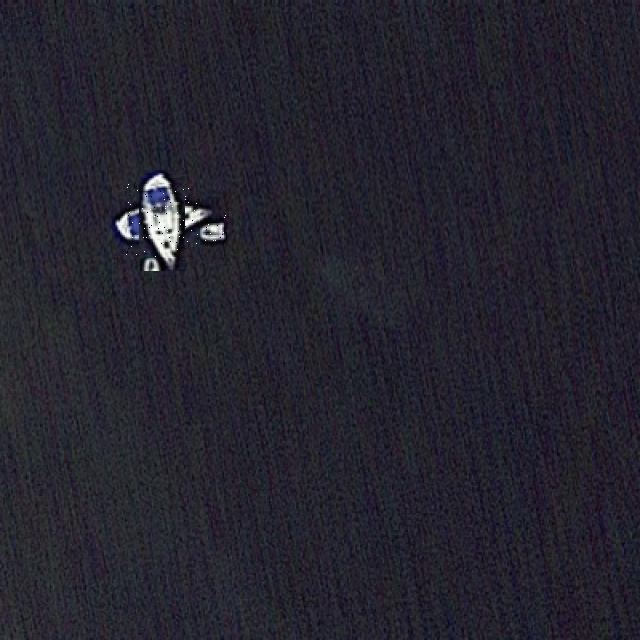boat: (126, 184, 200, 257), (195, 214, 229, 242)
